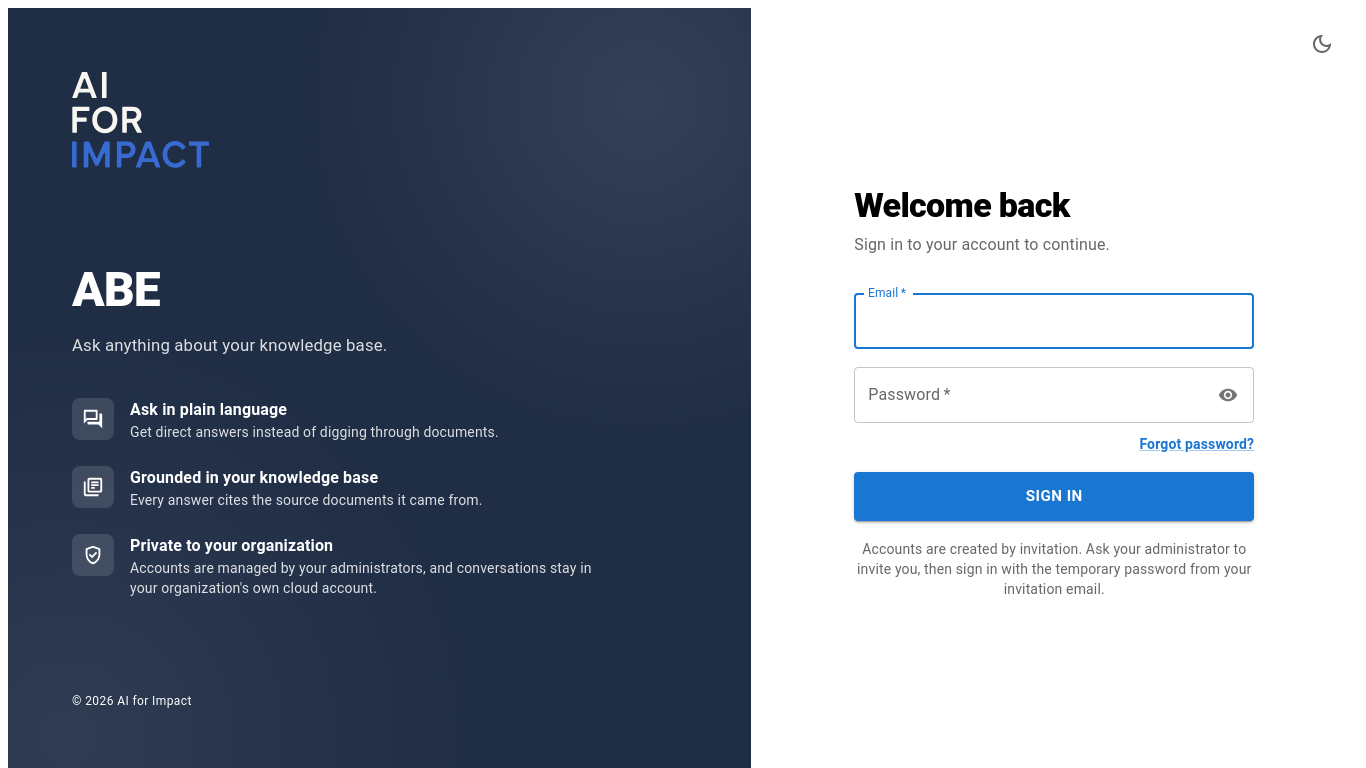
Test: LoginPage › shows a friendly message on bad credentials
In the field labelled "Email *": (1054, 321) [854,293,1254,349], type "User@Example.com"
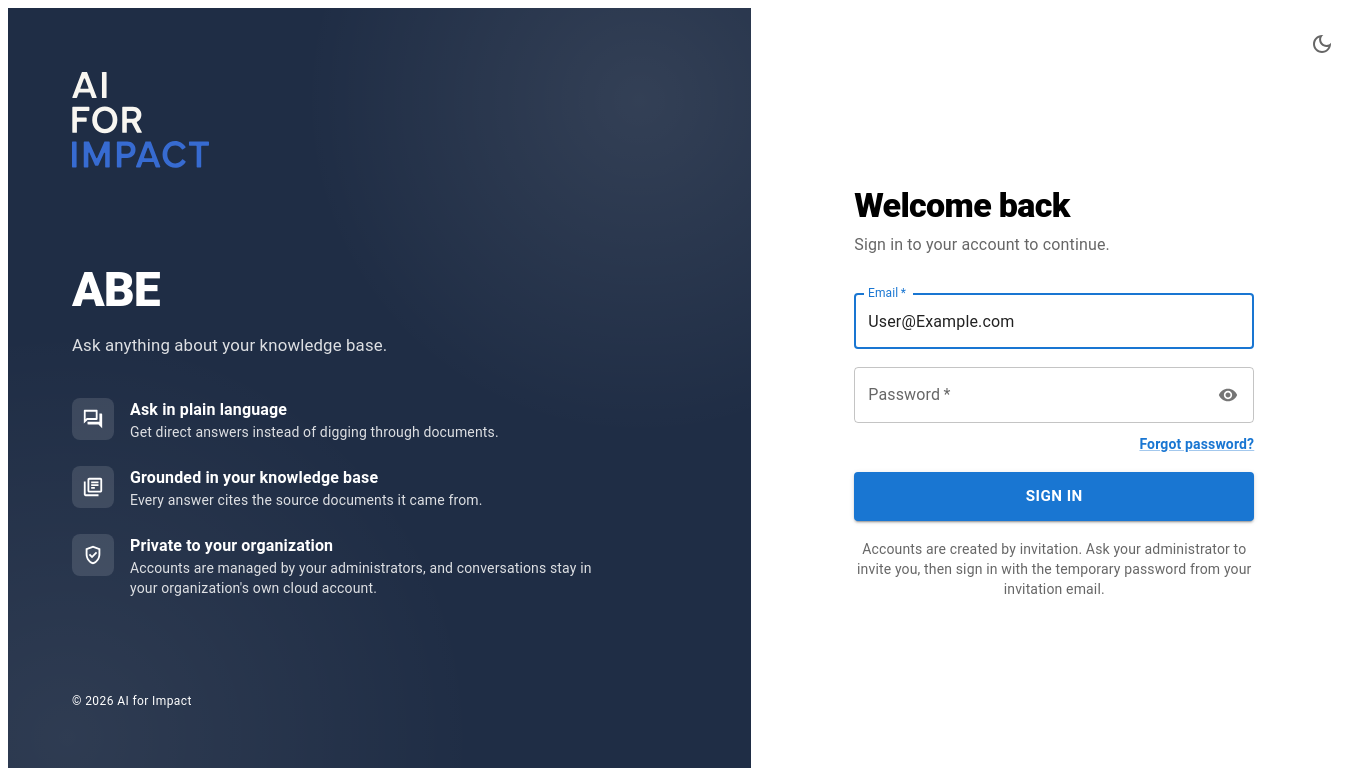
In the password field labelled "Password *": (1030, 395) [854,367,1205,423], type "hunter2hunter2!A"
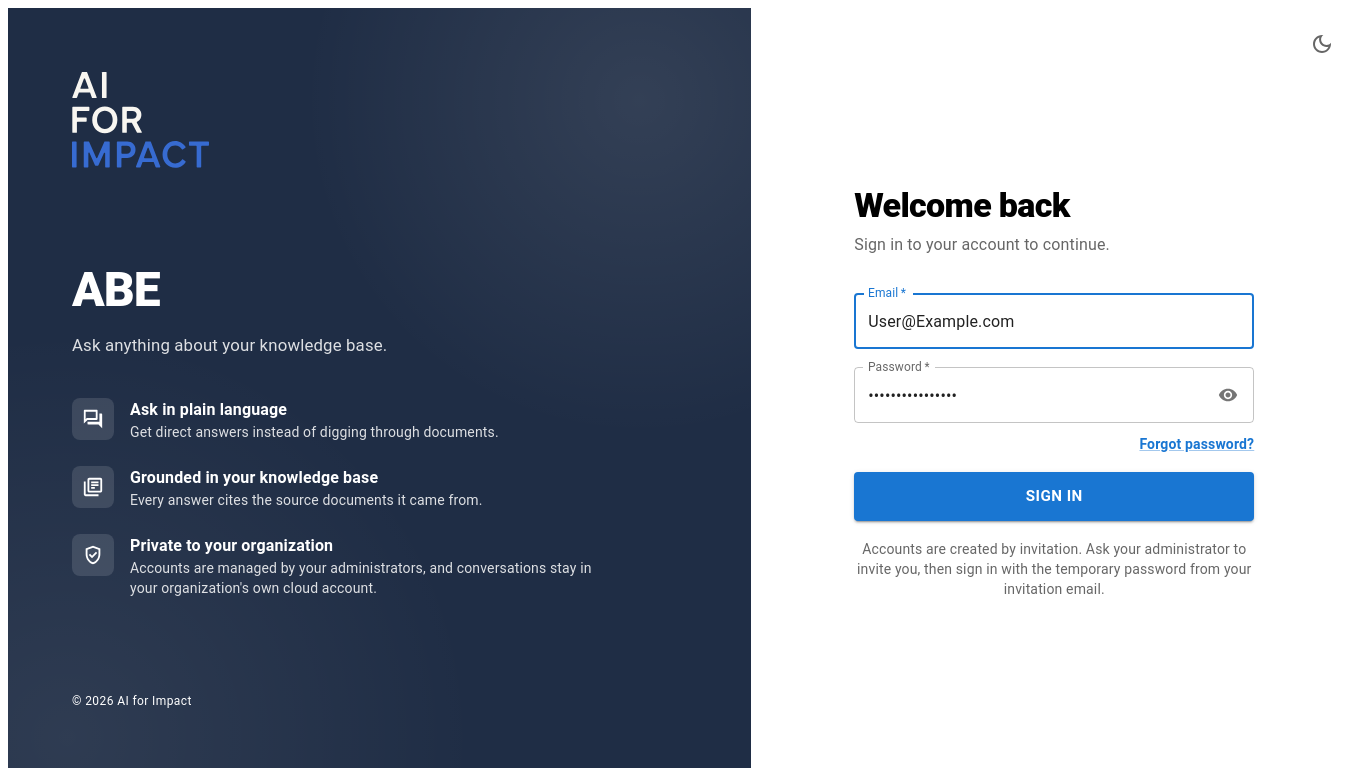
Click the button "Sign in": (1054, 496) [854,472,1254,521]
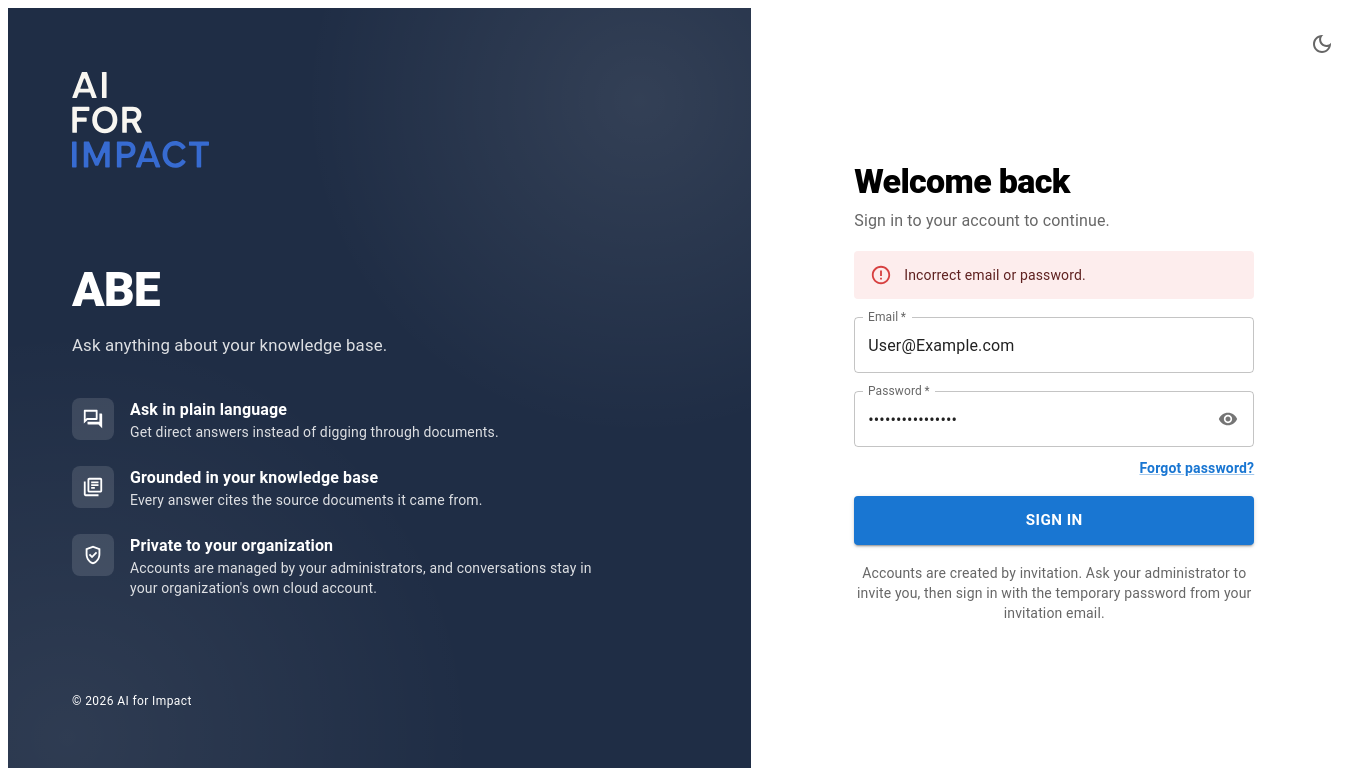
Expected: the text "Incorrect email or password." is shown, [904,267,1086,283]
